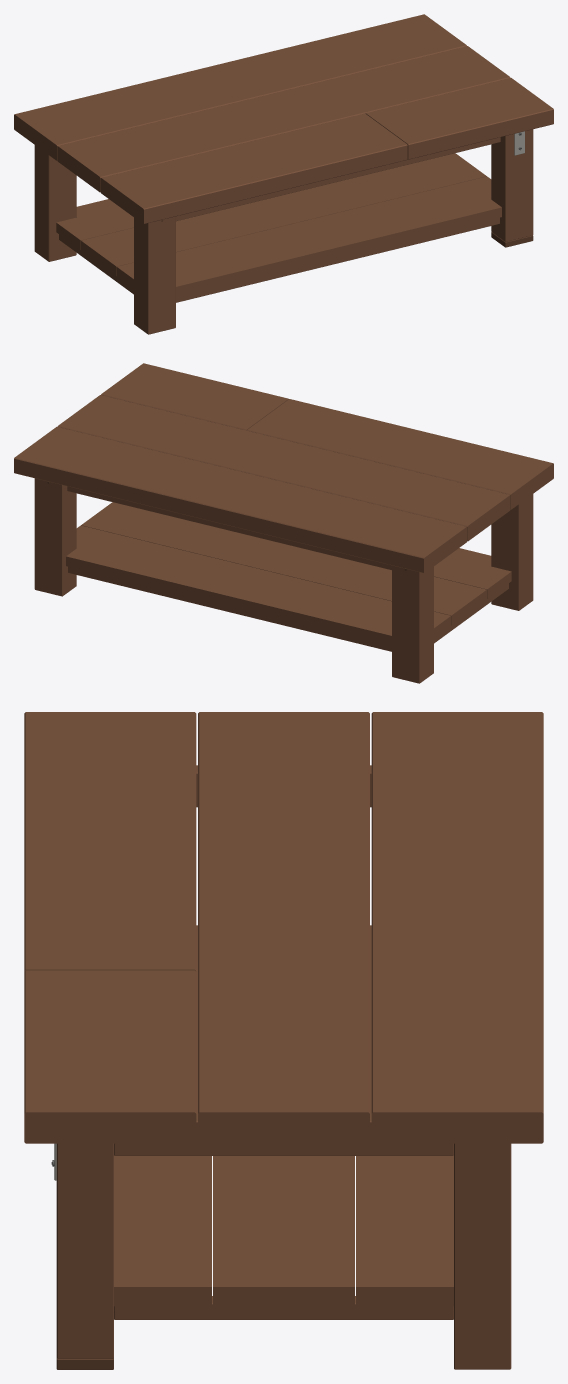
The model's file is main-coffee-table-1c2b15e909b2.glb.
The picture shows the model from 3 angles, top to bottom: view 1: azimuth 30°, elevation 25°; view 2: azimuth 150°, elevation 25°; view 3: azimuth 270°, elevation 25°; orthographic projection. The views are drawn at different scales.
Visible parts, largest first — view 1: wood-coffee; view 2: wood-coffee; view 3: wood-coffee.
Boxes of the visible parts, box(x1,y1,x2,y2) form: wood-coffee: box(14, 14, 553, 334); wood-coffee: box(14, 363, 553, 683); wood-coffee: box(24, 712, 543, 1369).
Size of the model in its own units: 1.24 by 0.39 by 0.68.
